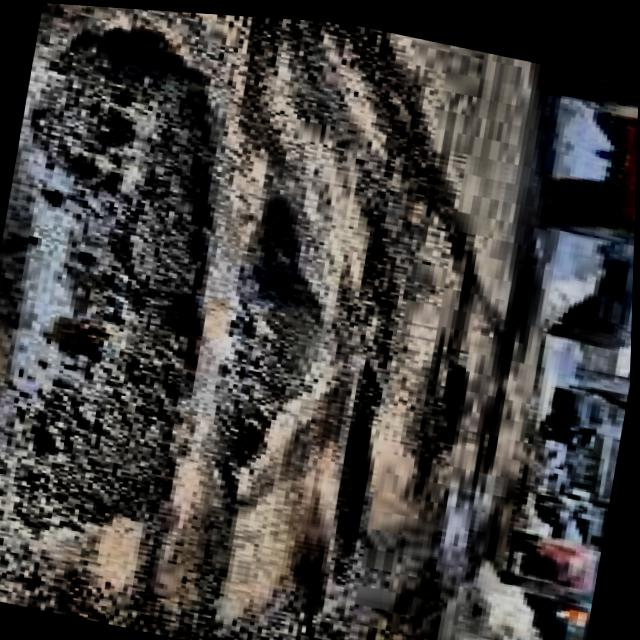pothole: (19, 30, 211, 522)
